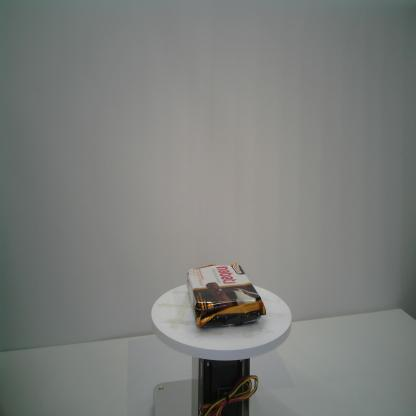Dessert: (186, 261, 268, 334)
